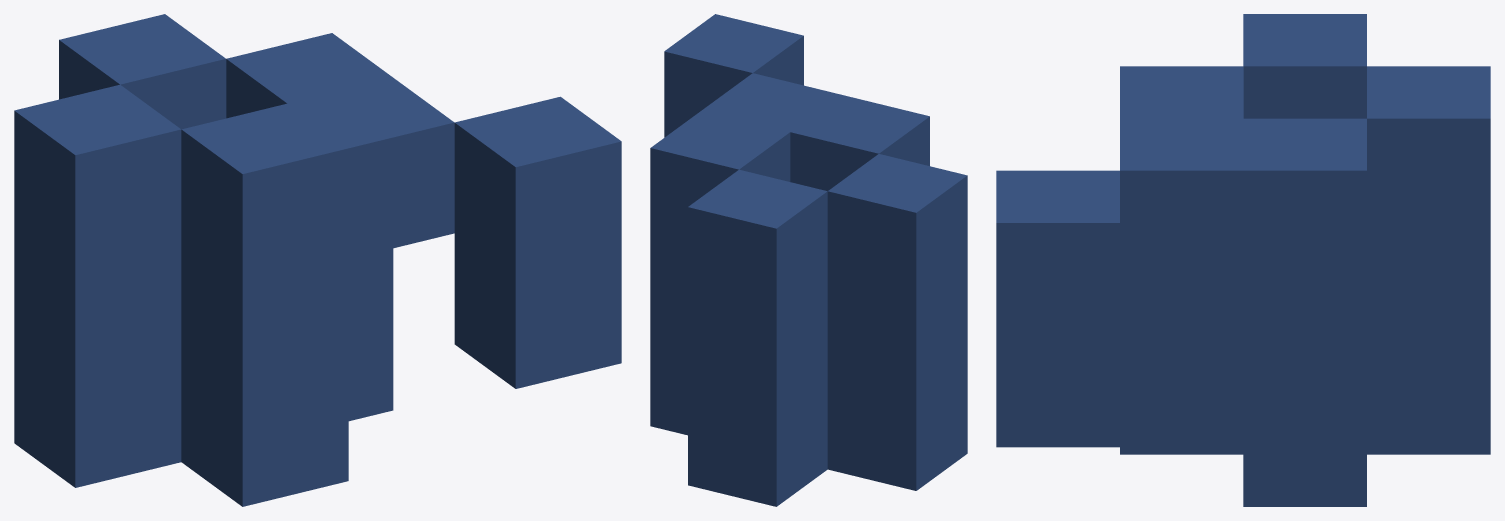
Rendered from Mug.obj.
The picture shows the model from 3 angles, left to right: view 1: azimuth 30°, elevation 25°; view 2: azimuth 150°, elevation 25°; view 3: azimuth 270°, elevation 25°; orthographic projection. The views are drawn at different scales.
Parts seen in each view (by area): view 1: Mug; view 2: Mug; view 3: Mug.
Part boxes in pixels (box(x1,y1,x2,y2)): Mug: box(14, 14, 621, 506); Mug: box(650, 14, 967, 506); Mug: box(996, 14, 1490, 506).
Size of the model in its own units: 4 by 3 by 4.
Materials: 1 (1 with a texture image).
